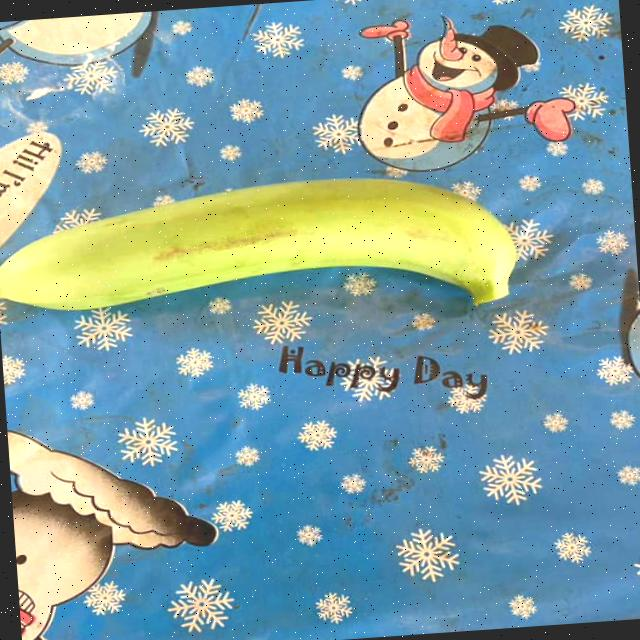Unripe: (0, 135, 542, 360)
